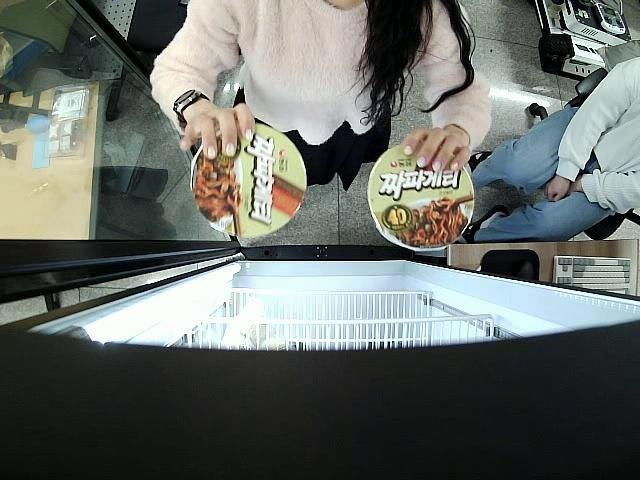03_chapagetti_L: (190, 122, 307, 238), (368, 142, 476, 251)
